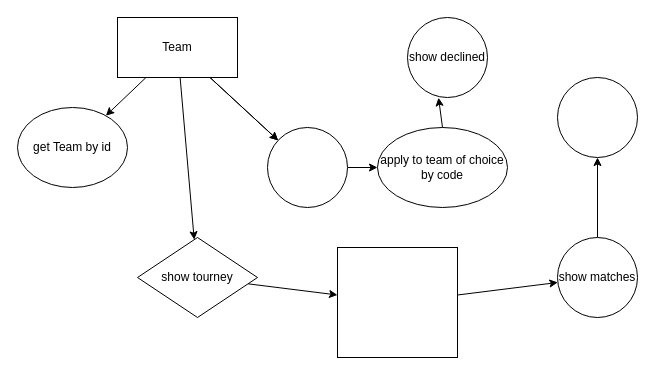
This 655x375 diagram has some shape labels left out. The shapes that lost their labels are listed below. From the top down, each one's centre as x and y in pixels, then its label:
At point 597,117: "show players in matchs".
At point 307,167: "if no team Card".
At point 397,302: "creator sees applications declined and accepted".
